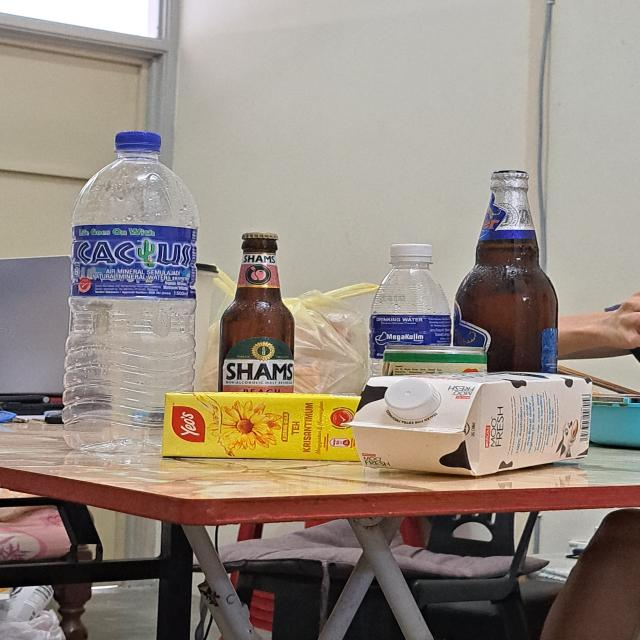can: (383, 344, 488, 375)
drink carton: (340, 371, 592, 477), (160, 391, 363, 462)
glass bottle: (458, 170, 558, 372), (218, 232, 293, 391)
plastic bottle: (62, 150, 199, 454), (369, 263, 452, 376)
plastic bottle cap: (383, 378, 440, 420), (116, 131, 162, 152), (391, 244, 433, 262)
